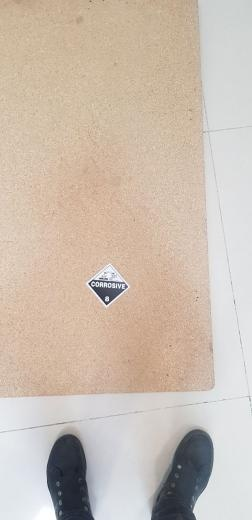Corrosive: (86, 264, 130, 308)
